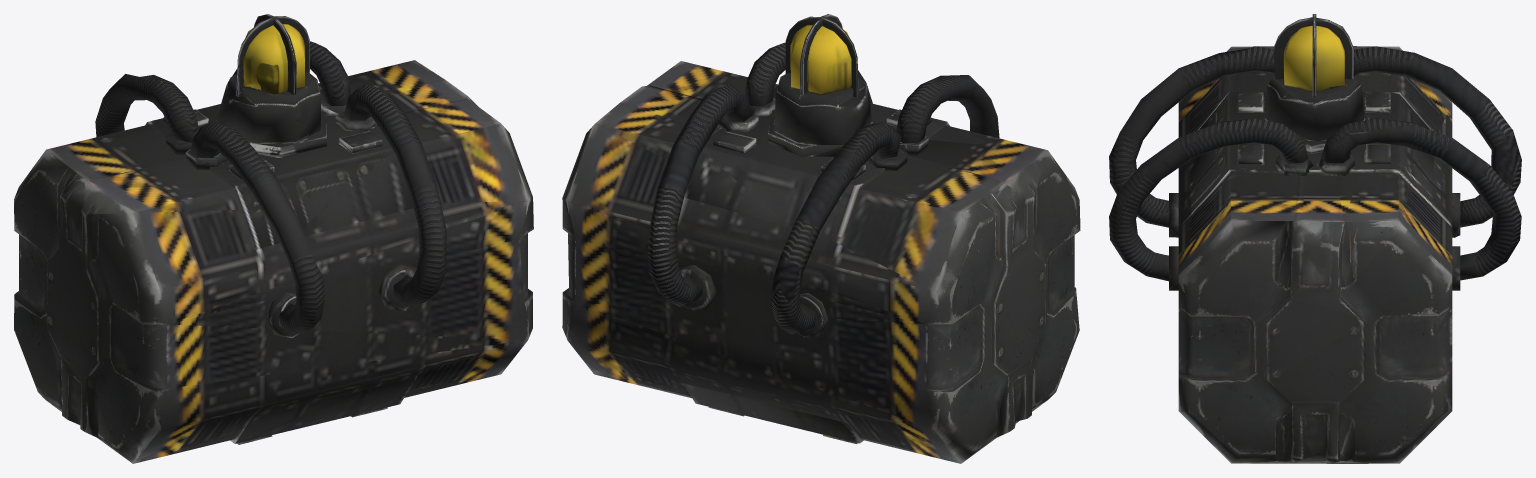
File: generator.glb
3 views of the same model, side by side, from view 1: azimuth 30°, elevation 25°; view 2: azimuth 150°, elevation 25°; view 3: azimuth 270°, elevation 25° (orthographic). The views are drawn at different scales.
Parts seen in each view (by area): view 1: generator; view 2: generator; view 3: generator.
Boxes of the visible parts, x1,y1,x2,y2 form: generator: (14, 14, 533, 463); generator: (562, 14, 1080, 463); generator: (1109, 14, 1521, 463).
Size of the model in its own units: 4 by 3.61 by 3.66.
1 material, 1 textured.
